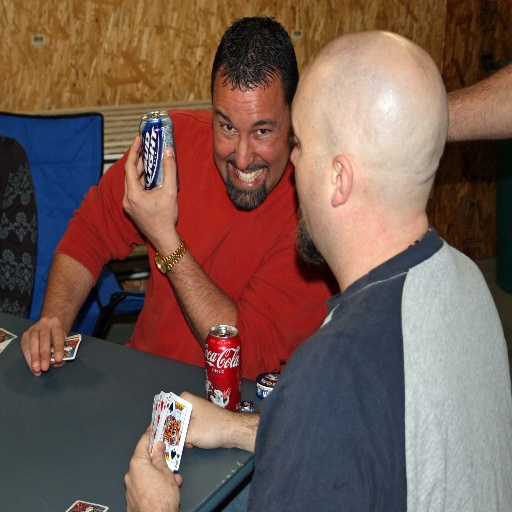hand: (119, 132, 180, 244), (126, 427, 174, 509), (18, 312, 68, 379), (178, 390, 230, 451)
